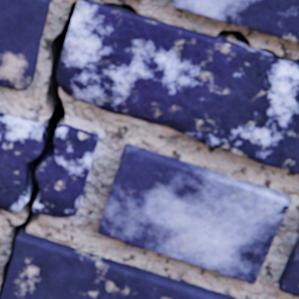brick: (57, 0, 298, 173), (98, 143, 289, 283), (0, 229, 237, 298), (172, 0, 298, 43), (0, 0, 50, 89), (277, 233, 298, 295)
broken_brick: (32, 124, 98, 216), (0, 112, 42, 211)
crack: (0, 1, 76, 296), (216, 30, 252, 48), (105, 3, 135, 12), (257, 48, 276, 56), (276, 205, 287, 213), (289, 58, 298, 63)
